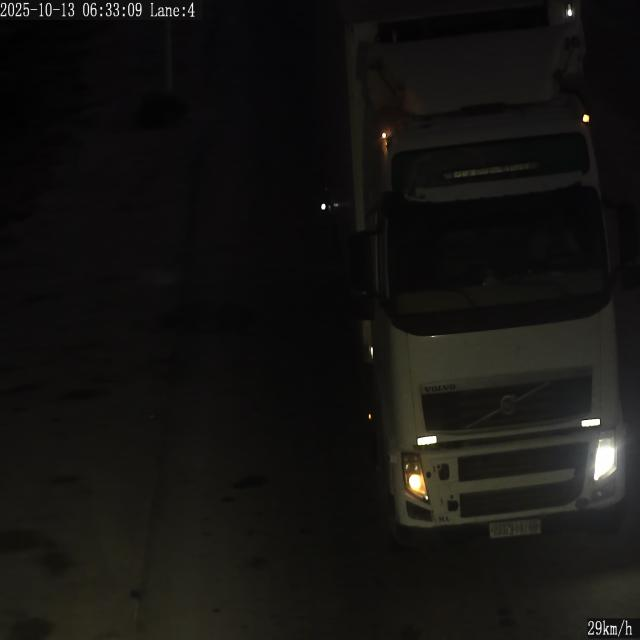BUS: (490, 519, 541, 537)
